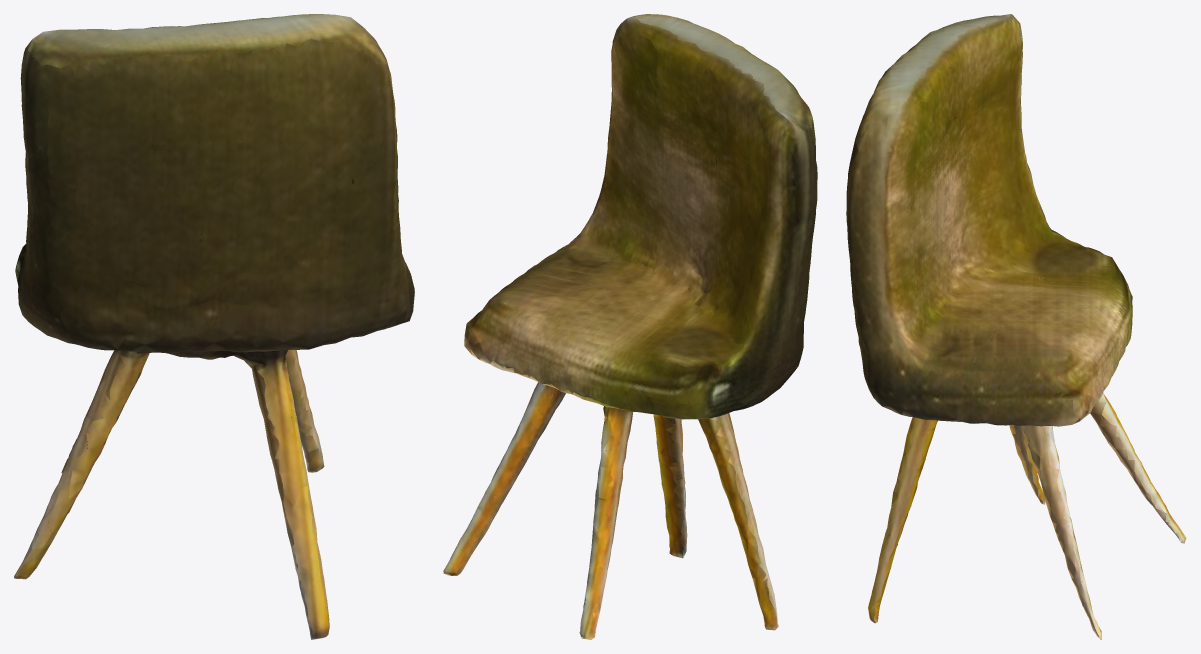
Rendered from chair.glb.
3 views of the same model, side by side, from view 1: azimuth 30°, elevation 25°; view 2: azimuth 150°, elevation 25°; view 3: azimuth 270°, elevation 25° (orthographic). The views are drawn at different scales.
Visible parts, largest first — view 1: world; view 2: world; view 3: world.
Part boxes in pixels (x1,y1,x2,y2): world: (14, 14, 414, 639); world: (443, 14, 817, 639); world: (846, 14, 1186, 639).
Size of the model in its own units: 0.5753 by 0.946 by 0.5462.
1 material, 1 textured.
